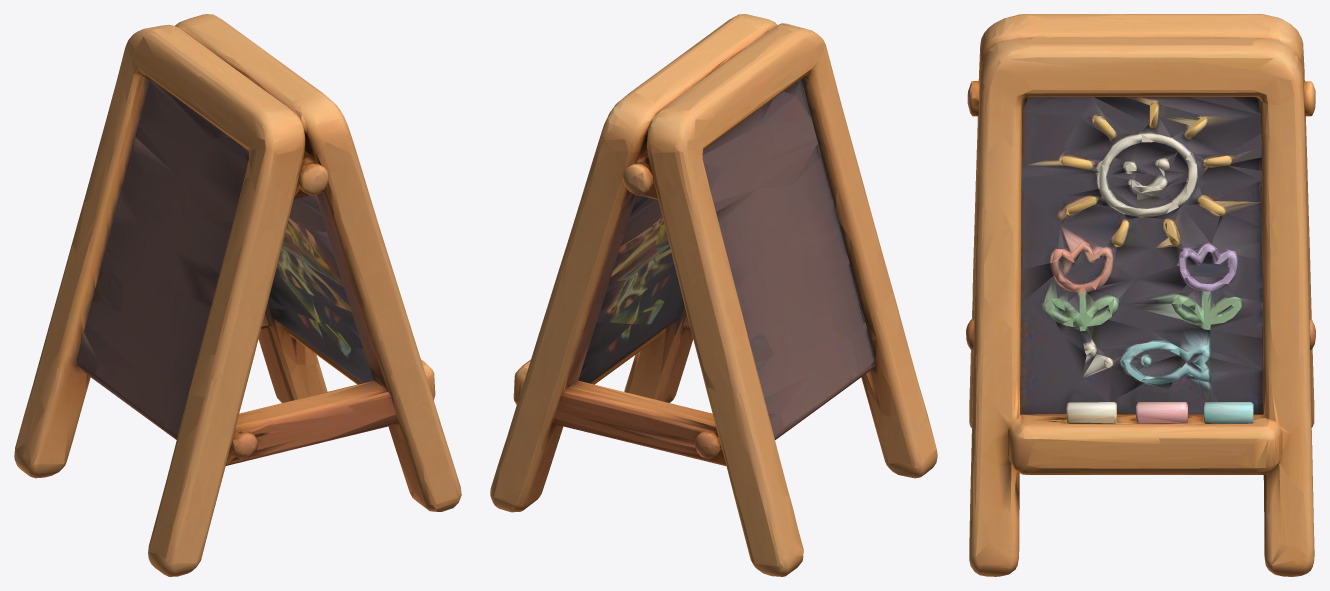
The picture shows the model from 3 angles, left to right: view 1: azimuth 30°, elevation 25°; view 2: azimuth 150°, elevation 25°; view 3: azimuth 270°, elevation 25°; orthographic projection. The views are drawn at different scales.
Parts seen in each view (by area): view 1: F08-chalkboard; view 2: F08-chalkboard; view 3: F08-chalkboard.
Boxes of the visible parts, <box> form: F08-chalkboard: <box>14,14,461,576</box>; F08-chalkboard: <box>490,14,937,576</box>; F08-chalkboard: <box>966,14,1315,576</box>.
Size of the model in its own units: 1.31 by 1.8 by 1.21.
Materials: 1 (1 with a texture image).
